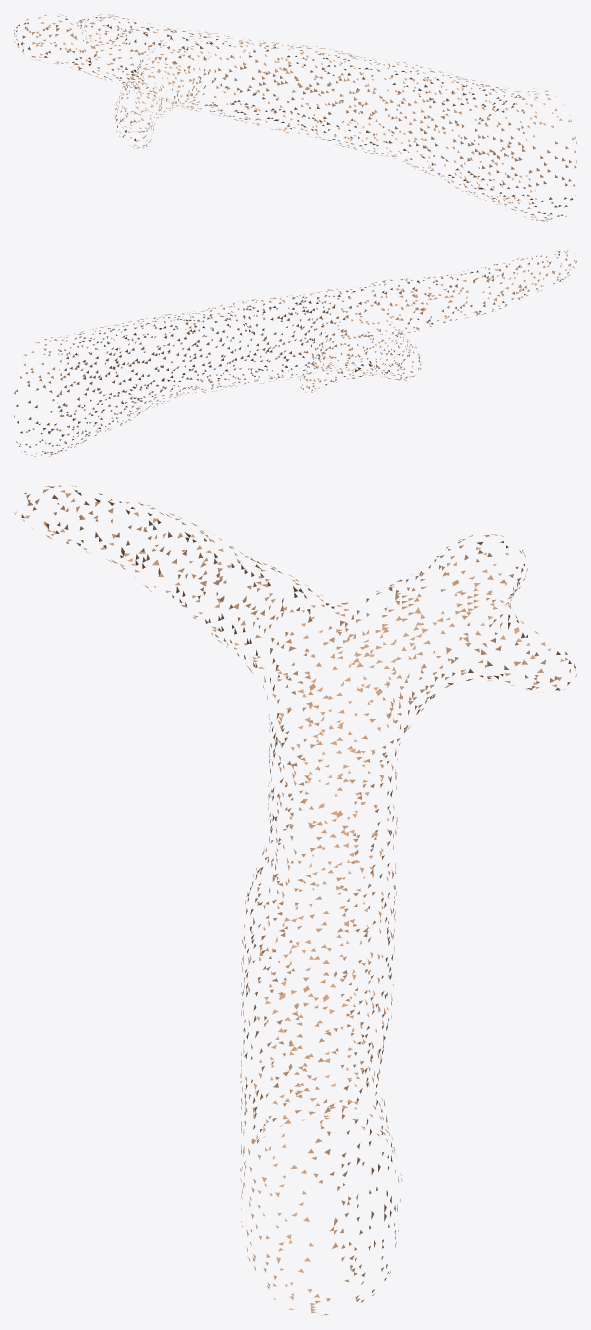
Rendered from morph_005.glb.
3 views of the same model, one above another, from view 1: azimuth 30°, elevation 25°; view 2: azimuth 150°, elevation 25°; view 3: azimuth 270°, elevation 25° (orthographic). The views are drawn at different scales.
Size of the model in its own units: 106 by 56.45 by 64.1.
